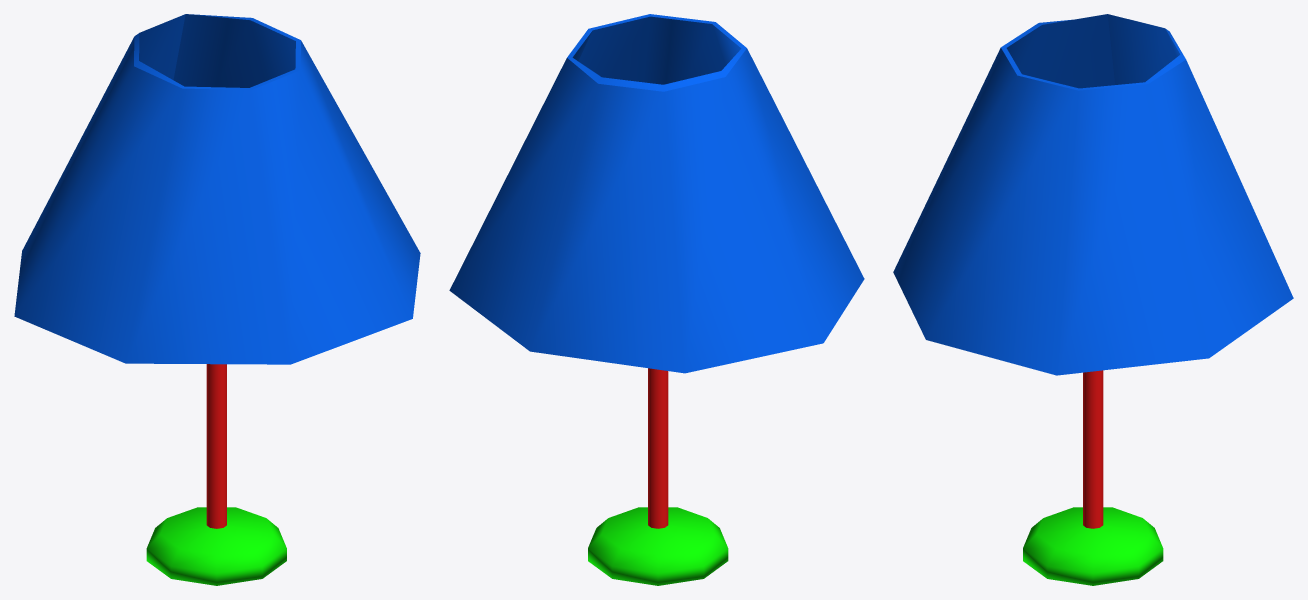
Rendered from Lamp.fbx.
3 views of the same model, side by side, from view 1: azimuth 30°, elevation 25°; view 2: azimuth 150°, elevation 25°; view 3: azimuth 270°, elevation 25° (orthographic).
Visible parts, largest first — view 1: LampCover, LampStand, Lamp; view 2: LampCover, LampStand, Lamp; view 3: LampCover, LampStand, Lamp.
Part boxes in pixels (x1,y1,x2,y2): LampCover: (14,14,420,364); LampStand: (146,507,286,585); Lamp: (206,364,226,528); LampCover: (449,14,864,373); LampStand: (588,507,728,585); Lamp: (648,368,668,528); LampCover: (893,14,1293,375); LampStand: (1023,507,1163,585); Lamp: (1083,370,1103,528).
Bounding box in the file's own units: 13.3 × 17.44 × 12.48.
